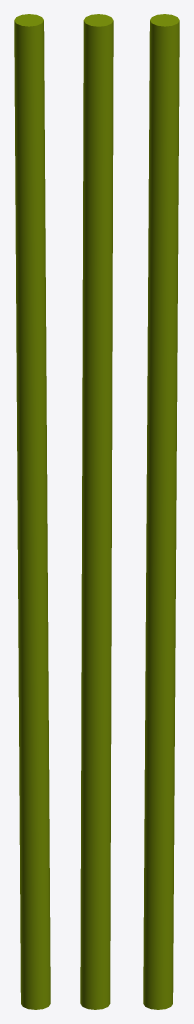
The model's file is SM_Cable2.fbx.
The picture shows the model from 3 angles, left to right: view 1: azimuth 90°, elevation 25°; view 2: azimuth 210°, elevation 25°; view 3: azimuth 270°, elevation 25°; orthographic projection.
Parts seen in each view (by area): view 1: Cable2; view 2: Cable2; view 3: Cable2.
Part boxes in pixels (left/top/right/bottom): Cable2: left=14, top=14, right=50, bottom=1009; Cable2: left=80, top=14, right=113, bottom=1009; Cable2: left=143, top=14, right=179, bottom=1009.
Bounding box in the file's own units: 2 × 72.73 × 2.45.
